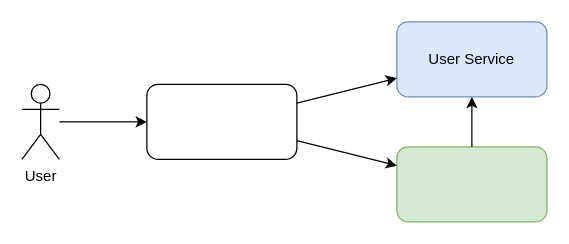
The diagram is 569 pixels wide and 244 high, and some of its shapes have lost their labels. The shapes that lost their labels are listed below. From the top down, each one's box as (x1, y1, x2, y2) in pixels, then its label:
(146, 83, 297, 159): Ingress Controller
(396, 146, 547, 222): Order Service
